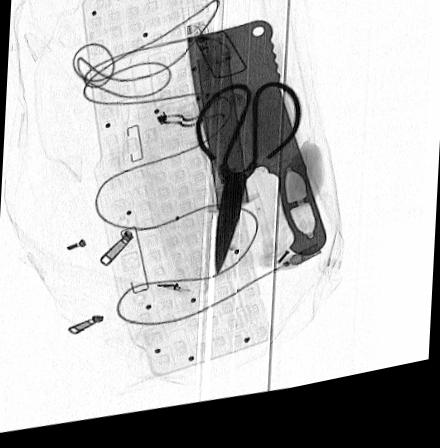Knife: (187, 29, 326, 270)
Scissors: (194, 90, 302, 285)
